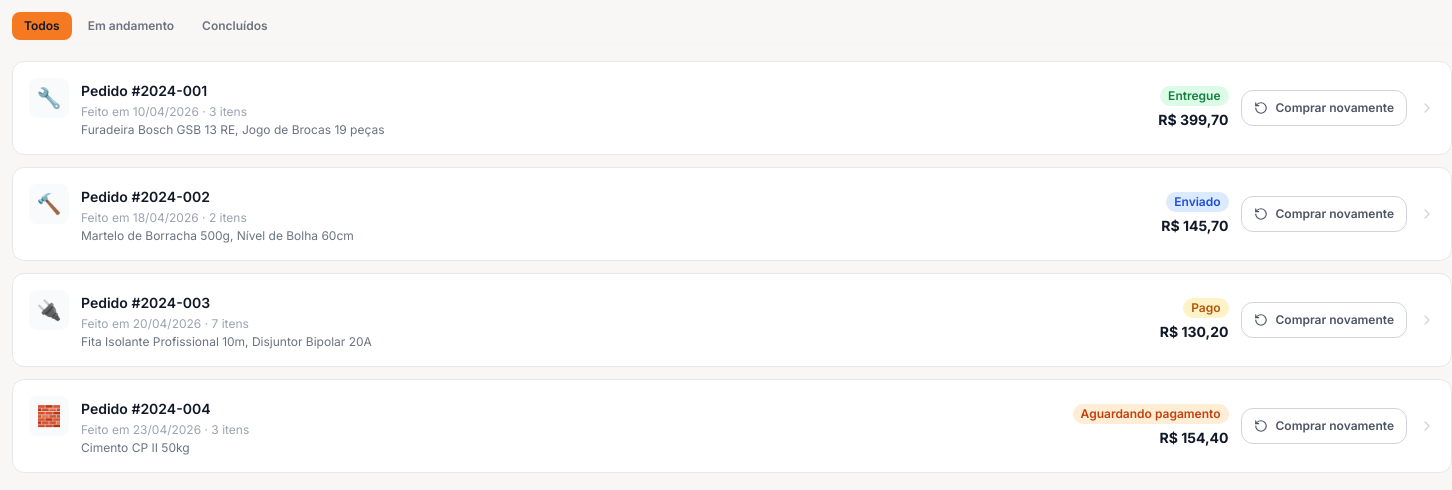
Scenario: OrdersTab › filtra apenas pedidos em andamento
Click the button "Em andamento".
click(131, 26)  # box [76,12,186,40]
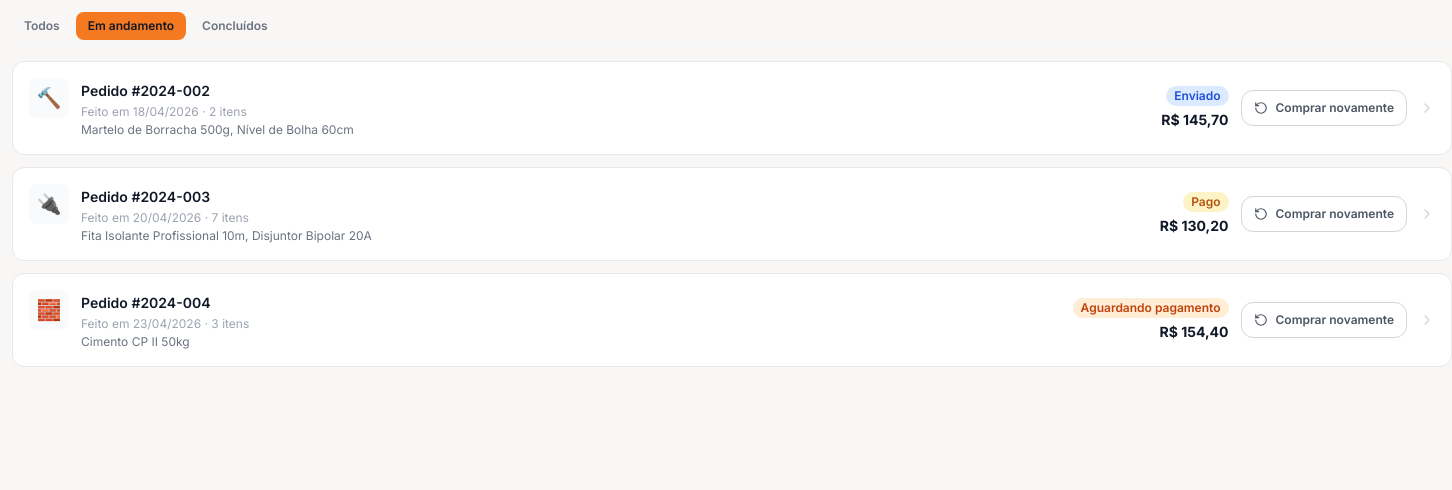
Result: the number of links "Pedido #2024-002" is 3 at [81,82,210,99]; [81,188,210,205]; [81,294,210,311]
